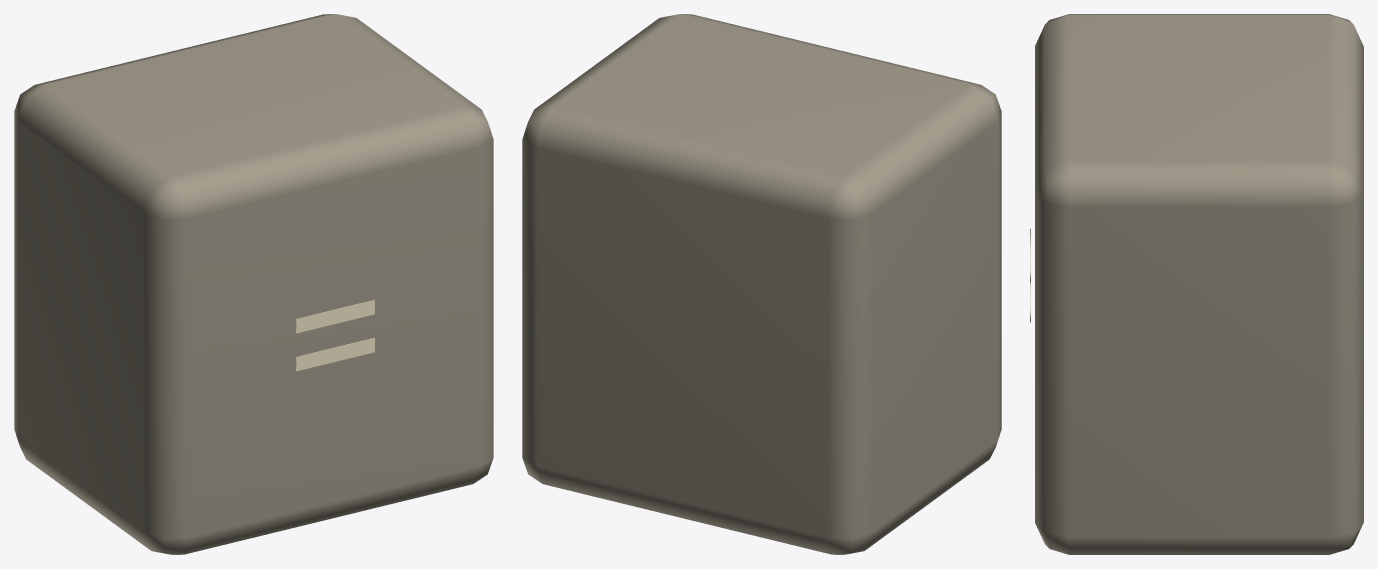
The model's file is SM_Puzzle_LogicBlock_02.fbx.
3 views of the same model, side by side, from view 1: azimuth 30°, elevation 25°; view 2: azimuth 150°, elevation 25°; view 3: azimuth 270°, elevation 25° (orthographic). The views are drawn at different scales.
Parts seen in each view (by area): view 1: Logic_block.001, Logic_symbol.001; view 2: Logic_block.001; view 3: Logic_block.001.
Boxes of the visible parts, x1,y1,x2,y2 form: Logic_block.001: [14, 14, 493, 554]; Logic_symbol.001: [296, 300, 374, 371]; Logic_block.001: [522, 14, 1001, 554]; Logic_block.001: [1035, 14, 1363, 554].
Size of what is drawn, in the model's own units: 48 by 38.54 by 50.
